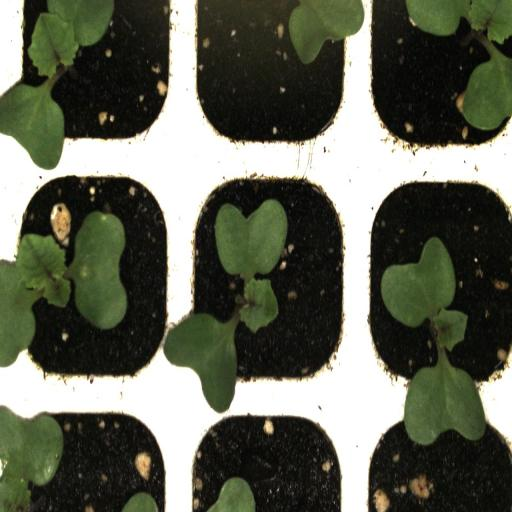Folha: (404, 0, 512, 131), (287, 0, 365, 65)
Germinacao: (179, 162, 358, 404), (5, 160, 180, 402), (359, 162, 512, 403), (4, 0, 180, 159)
